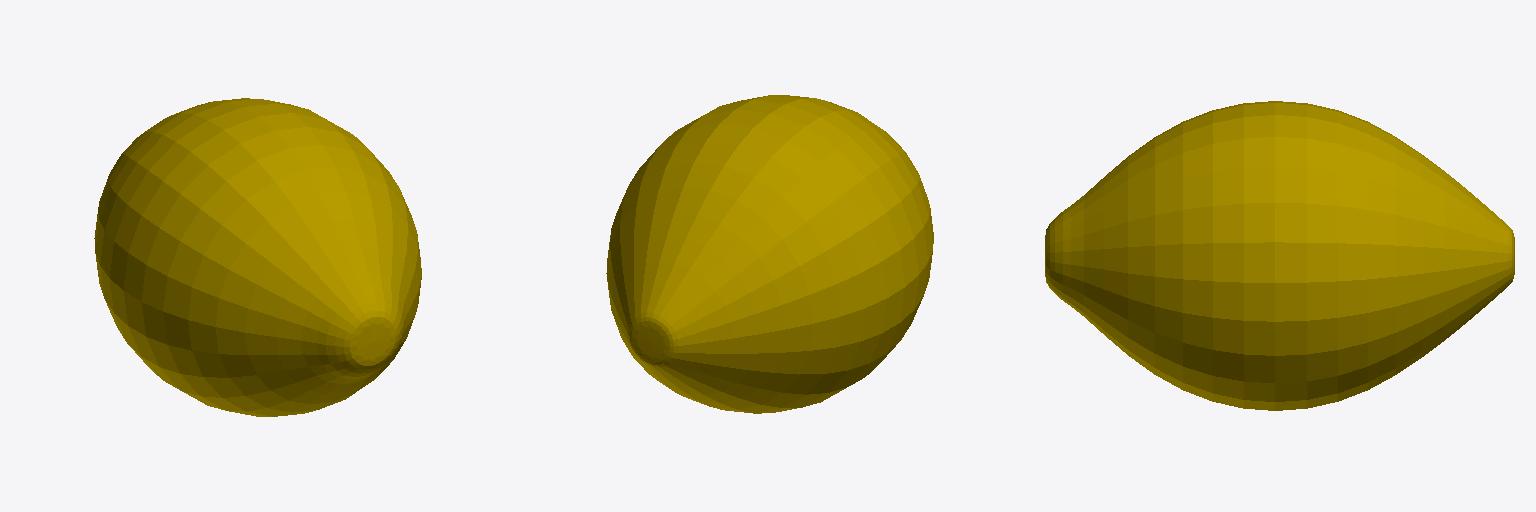
Rendered from Lemon.obj.
3 renders of one model, left to right at view 1: azimuth 30°, elevation 25°; view 2: azimuth 150°, elevation 25°; view 3: azimuth 270°, elevation 25°, orthographic.
Visible parts, largest first — view 1: Lemon_Sphere; view 2: Lemon_Sphere; view 3: Lemon_Sphere.
Boxes of the visible parts, x1,y1,x2,y2 form: Lemon_Sphere: [94, 98, 421, 416]; Lemon_Sphere: [606, 95, 933, 413]; Lemon_Sphere: [1045, 101, 1514, 410].
Bounding box in the file's own units: 1.87 × 1.87 × 2.83.